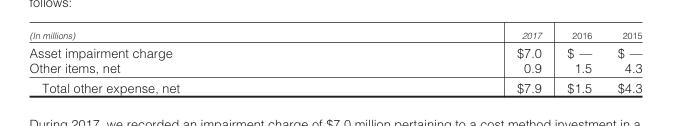table: (28, 29, 641, 94)
table column: (28, 29, 347, 94), (347, 29, 553, 94), (553, 29, 603, 94), (603, 29, 641, 94)
table column header: (28, 29, 641, 42)
table row: (28, 42, 641, 60), (28, 60, 641, 77), (28, 77, 641, 94), (28, 29, 641, 42)
